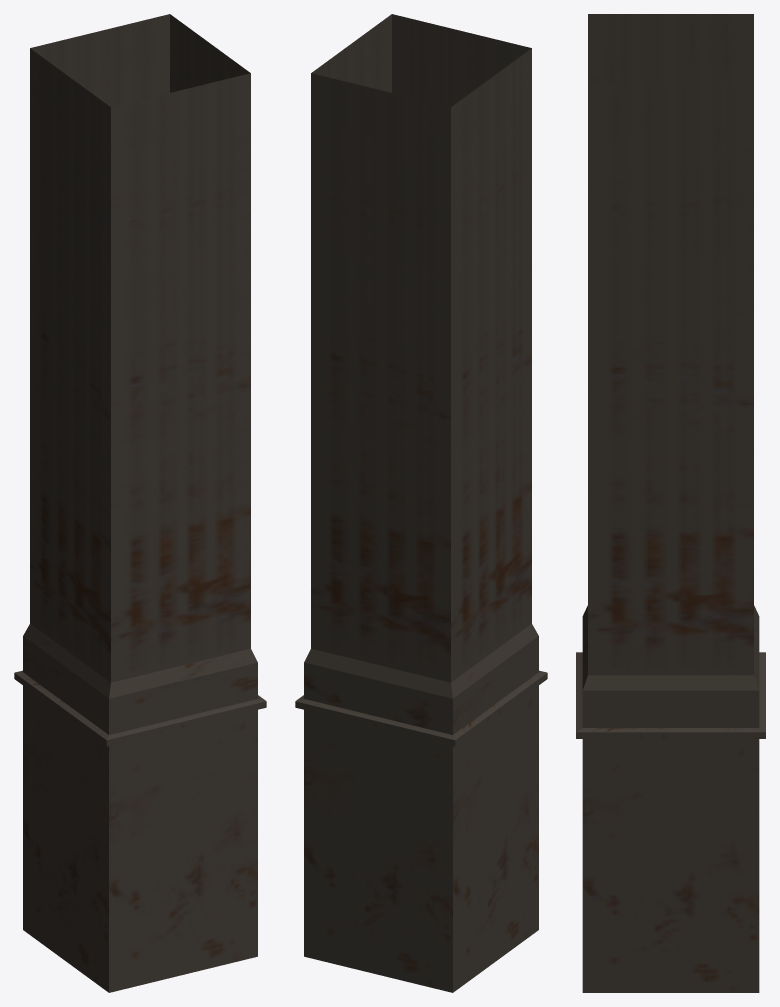
The model's file is metal_column_bottom.glb.
3 views of the same model, side by side, from view 1: azimuth 30°, elevation 25°; view 2: azimuth 150°, elevation 25°; view 3: azimuth 270°, elevation 25° (orthographic). The views are drawn at different scales.
Visible parts, largest first — view 1: Metal_Column_Bottom; view 2: Metal_Column_Bottom; view 3: Metal_Column_Bottom.
Boxes of the visible parts, x1=… form: Metal_Column_Bottom: x1=14, y1=14, x2=266, y2=992; Metal_Column_Bottom: x1=295, y1=14, x2=547, y2=992; Metal_Column_Bottom: x1=576, y1=14, x2=765, y2=992.
Bounding box in the file's own units: 0.569 × 3 × 0.5694.
Materials: 1 (1 with a texture image).
